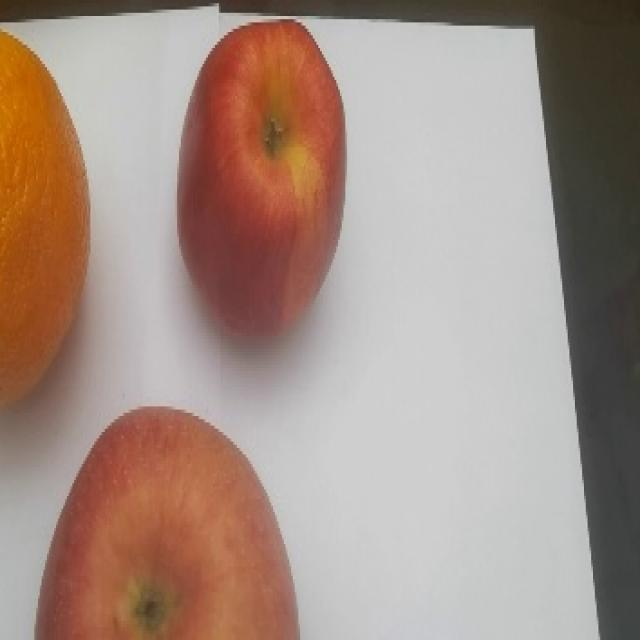Apple: (36, 402, 300, 640), (177, 18, 351, 343)
Orange: (0, 28, 92, 400)
